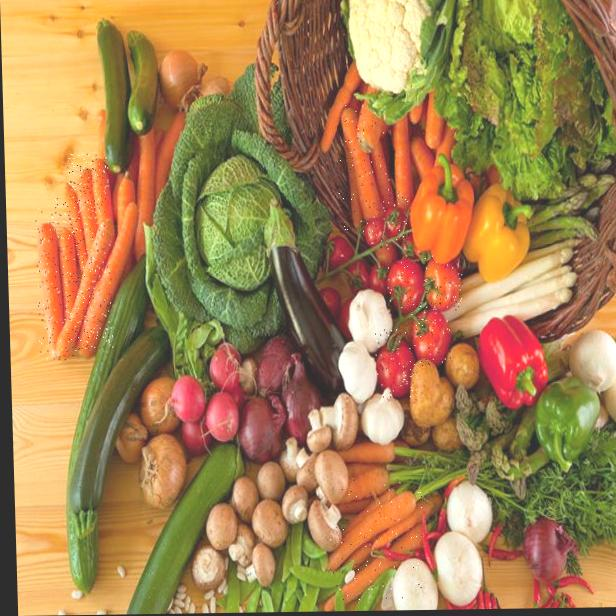carrots: (329, 479, 428, 601), (69, 154, 113, 351), (337, 103, 393, 234), (54, 198, 85, 357), (35, 208, 67, 361)
tomatoes: (373, 327, 416, 397), (424, 255, 464, 314), (411, 308, 451, 366), (387, 255, 424, 311), (381, 195, 409, 245), (363, 219, 389, 251)
